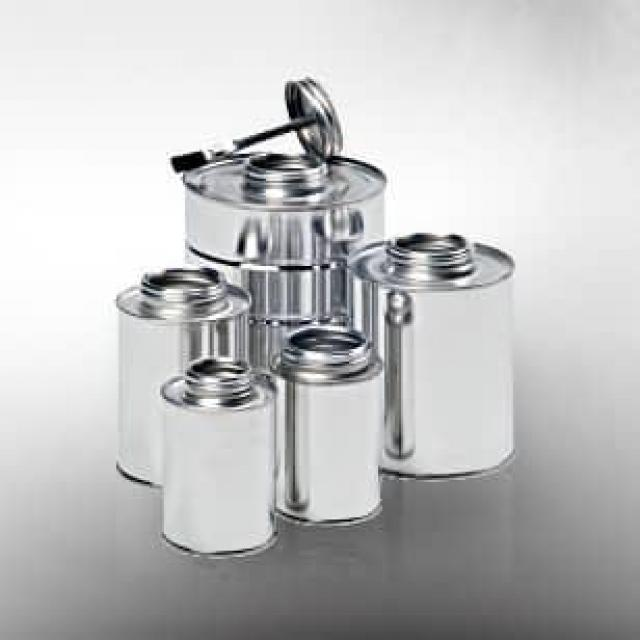metel: (179, 150, 389, 441), (350, 233, 521, 480), (118, 265, 253, 489), (166, 357, 281, 559), (279, 320, 389, 528)
